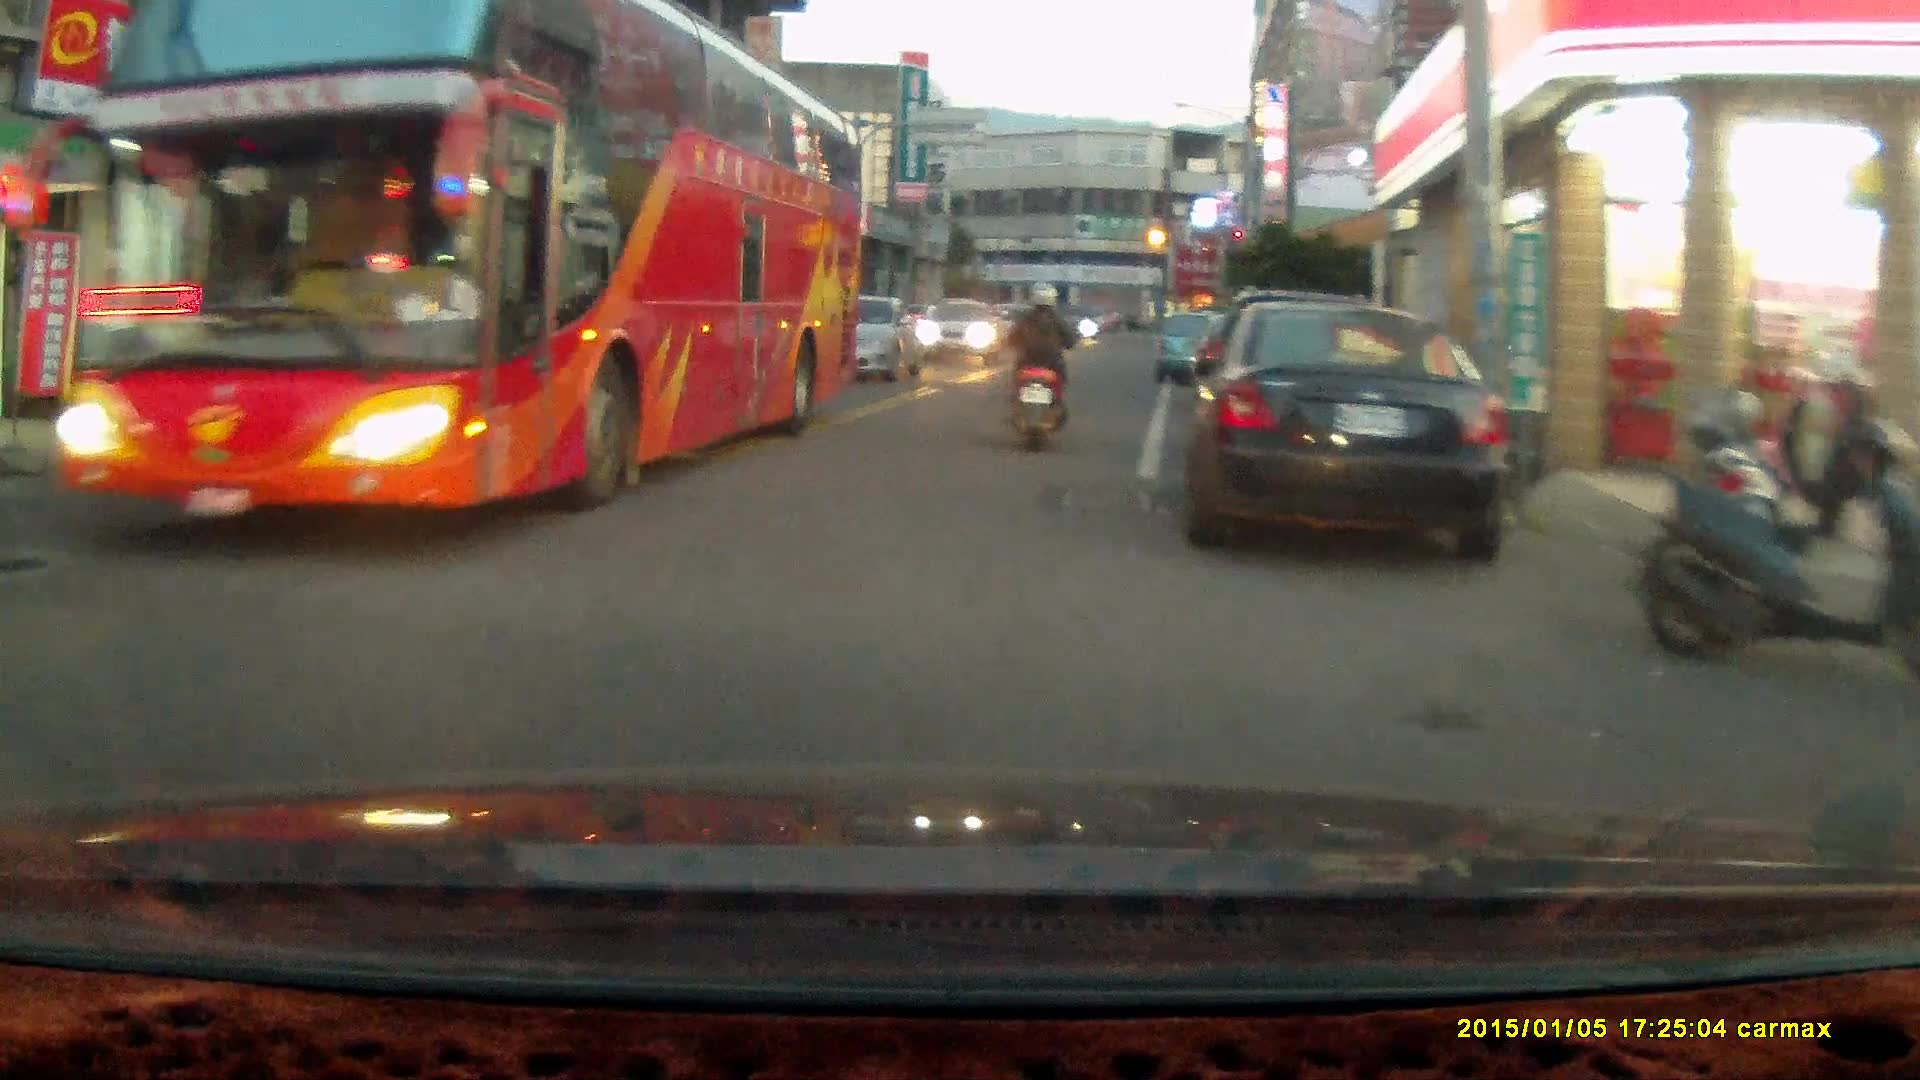rider: (1002, 281, 1077, 453)
vehicle: (82, 10, 869, 531), (1163, 298, 1512, 565), (809, 294, 919, 384), (912, 297, 1010, 367), (1155, 315, 1236, 388)
